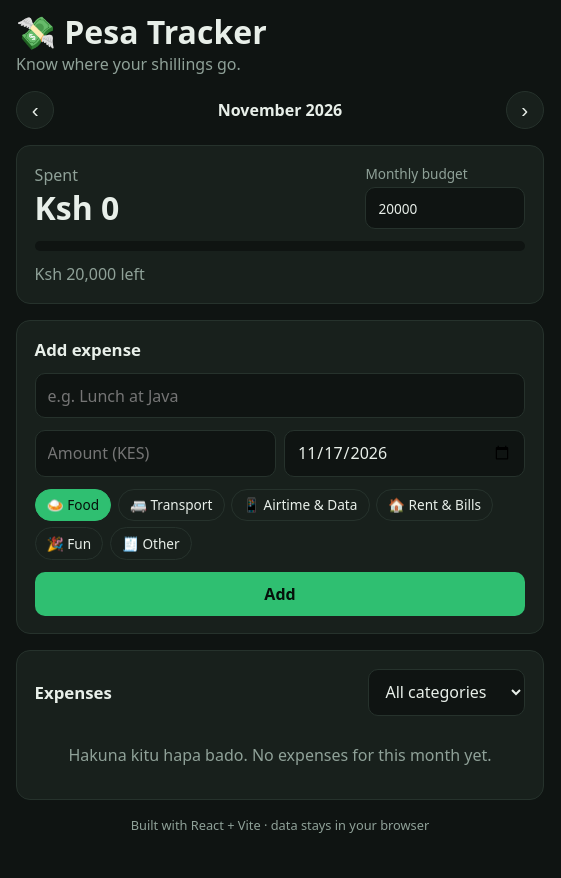
Test: Pesa Tracker › adds an expense and updates the total
Type "Lunch" into the field with placeholder "e.g. Lunch at Java" at (280, 396), box [35,373,525,418]
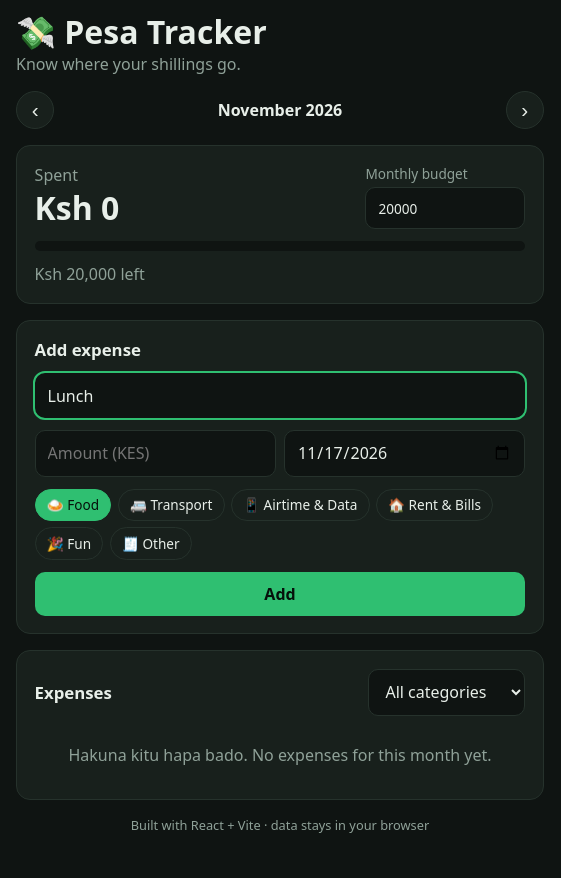
Type "650" into the number field with placeholder "Amount (KES)" at (155, 453), box [35,430,276,477]
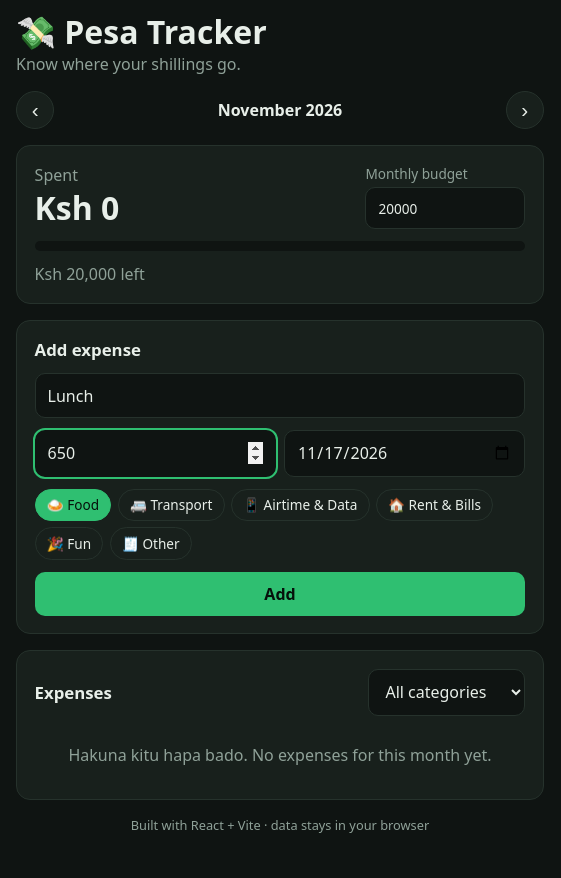
Click the button "Add" at (280, 594), box [35,572,525,616]
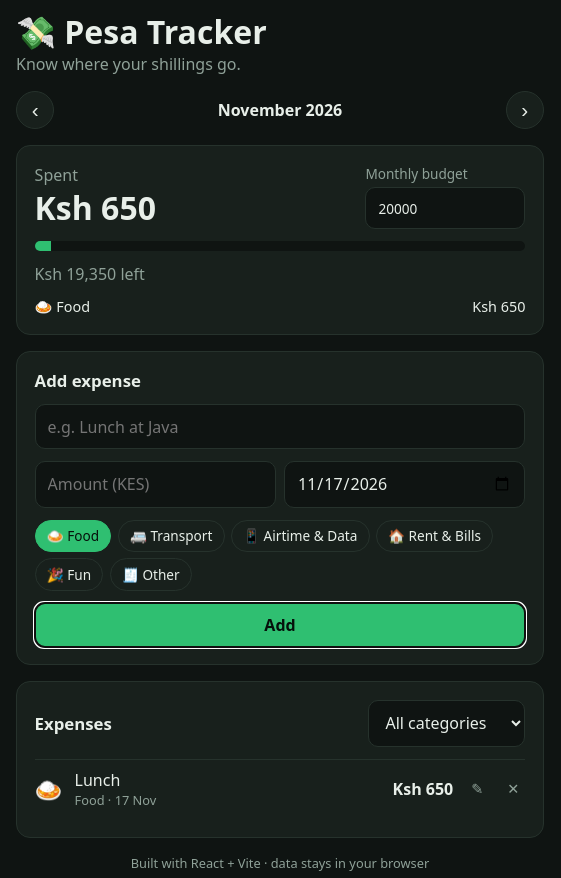
Check: the text "Lunch" is shown, box [74,769,120,791]
